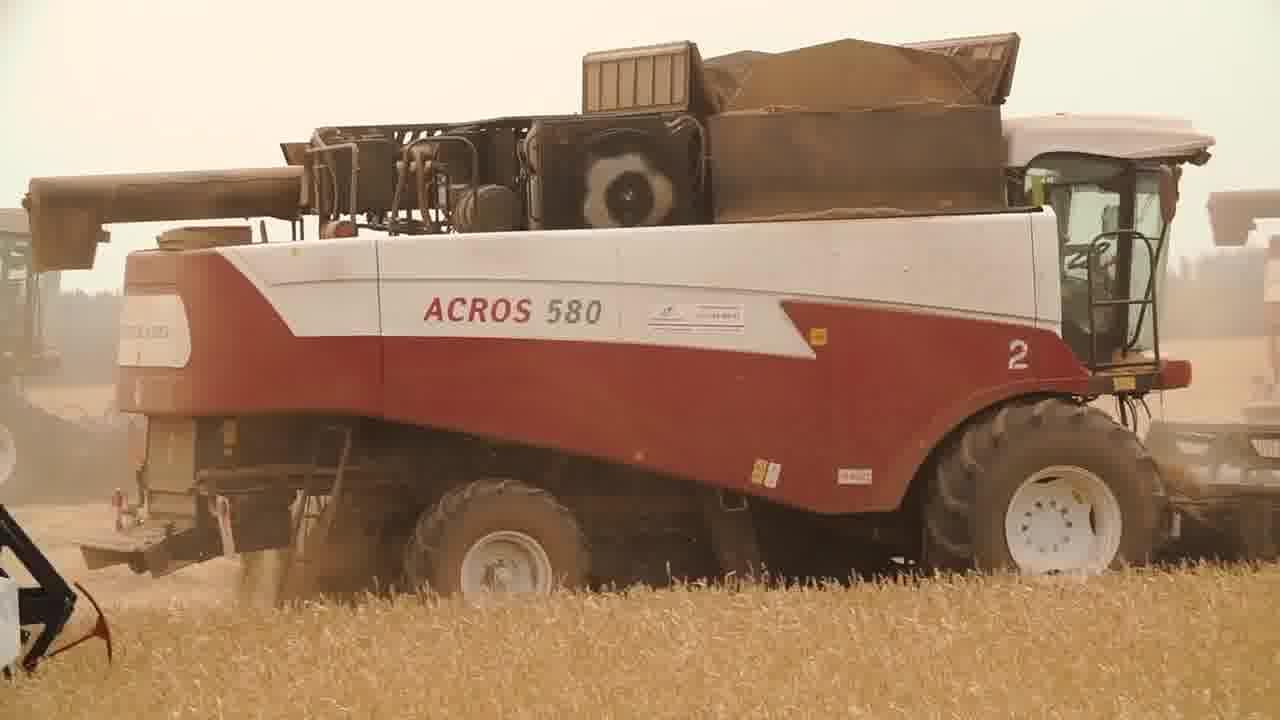combine harvester: (21, 26, 1280, 616)
